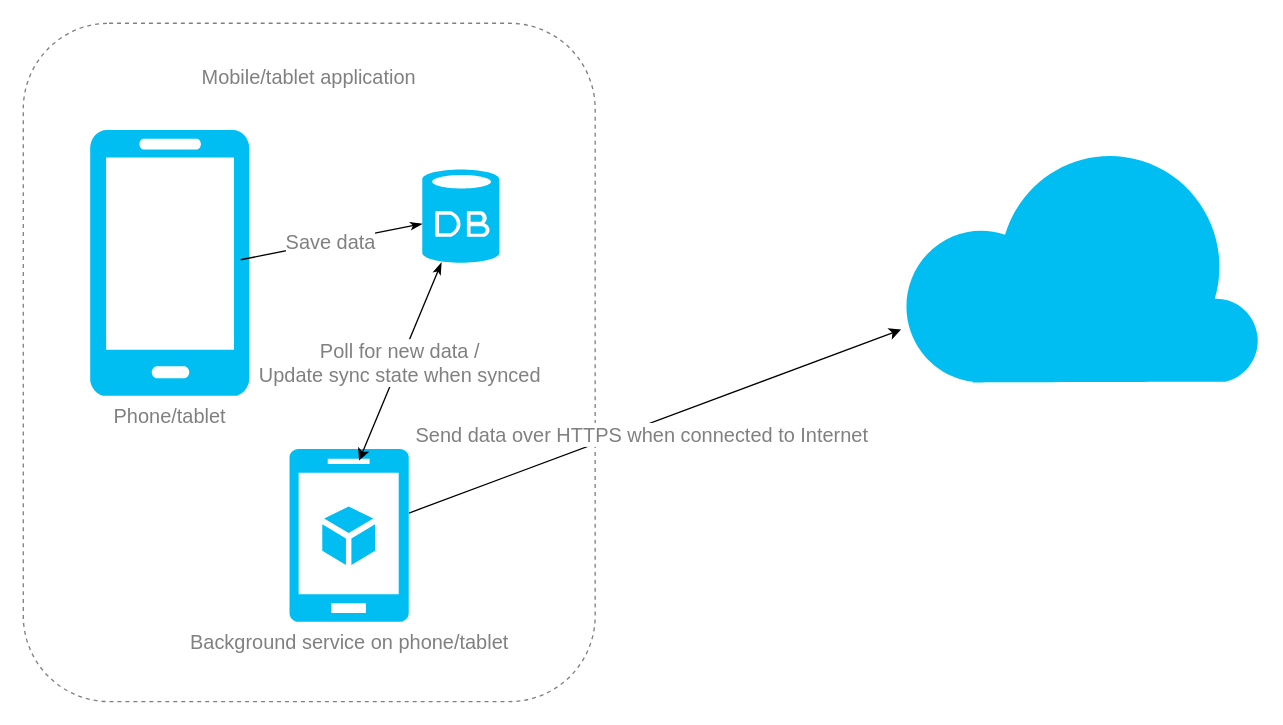
Some shapes in this 1283 by 725 pixel diagram are drawn without their labels. The centre of each missing label's shape, as x and y in pixels:
Application storage: point 460,215
Backend application in cloud: point 1080,262
